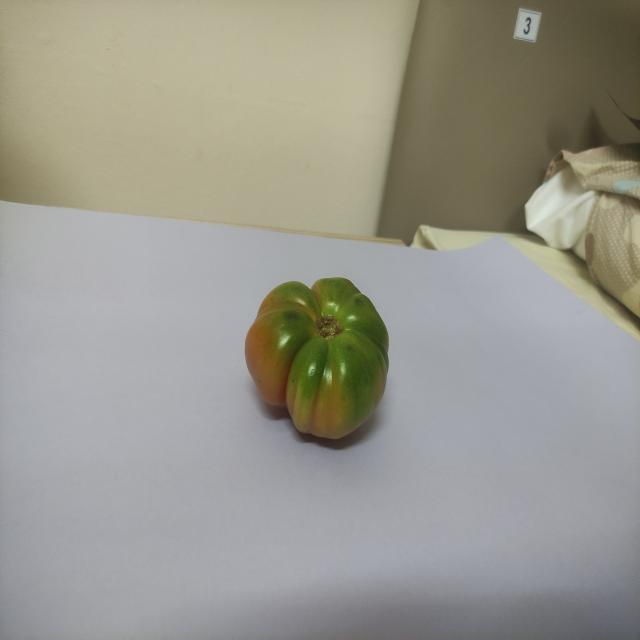unripe tomato: (240, 262, 408, 450)
